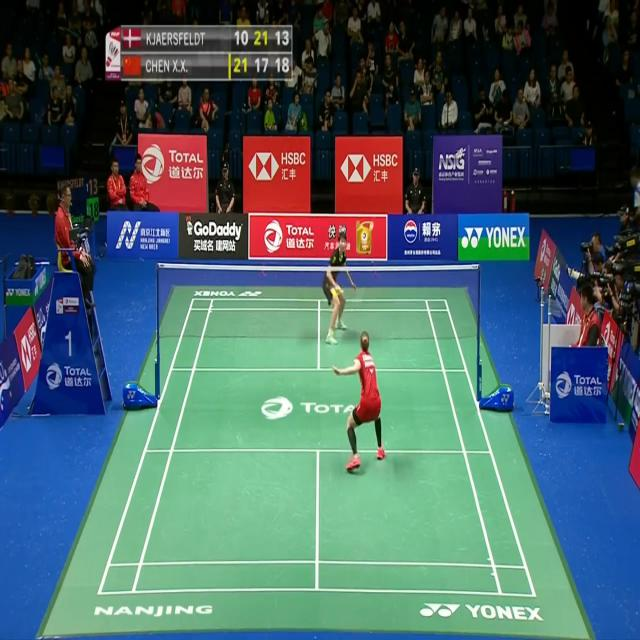Player1: (329, 329, 391, 475)
Player2: (320, 230, 360, 348)
